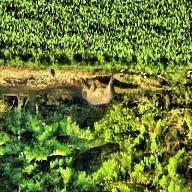boar: (72, 71, 121, 109)
